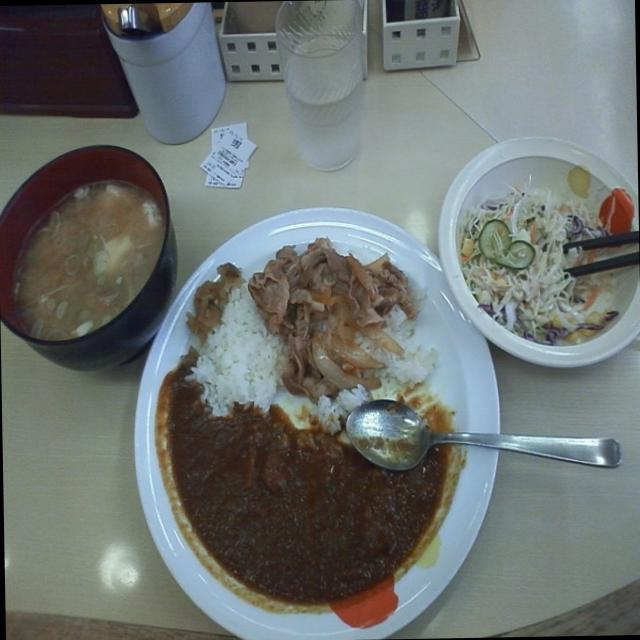Beef Curry: (149, 328, 476, 627)
